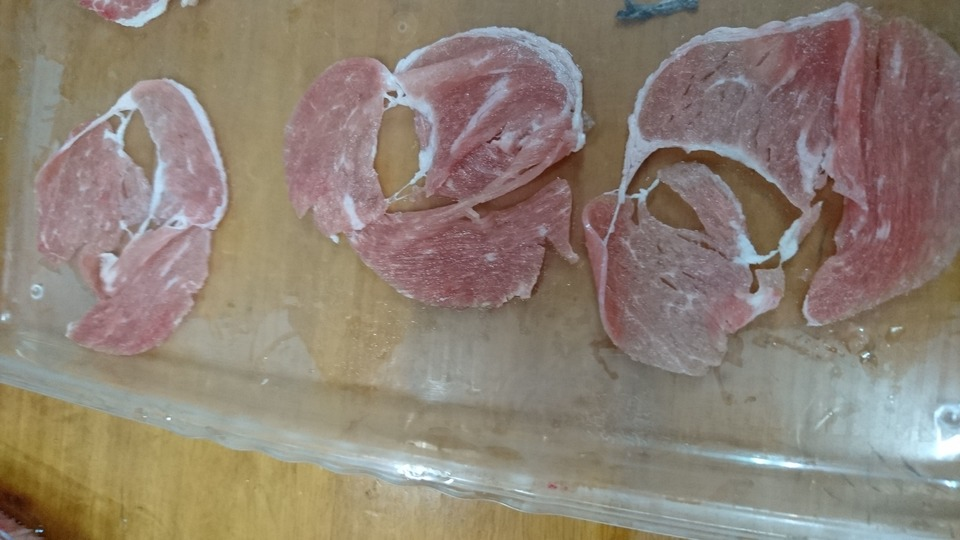restructured meat: (593, 9, 956, 369), (276, 29, 573, 334), (27, 70, 262, 358)
